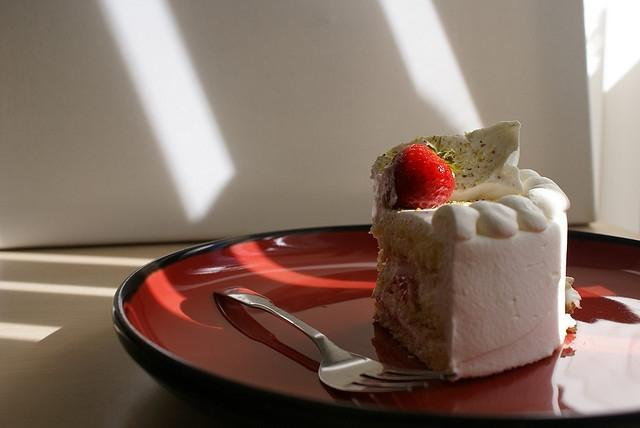strawberry: (390, 136, 466, 210)
